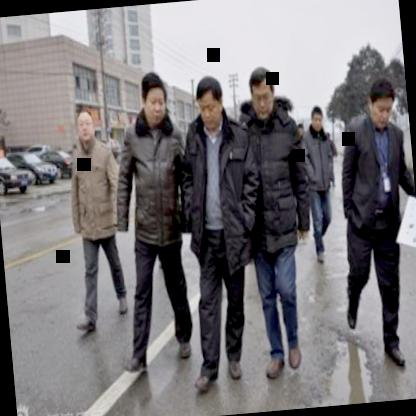head: (136, 67, 174, 131), (362, 70, 402, 130), (191, 73, 228, 131), (244, 61, 280, 120), (72, 103, 98, 147), (306, 102, 328, 136)
